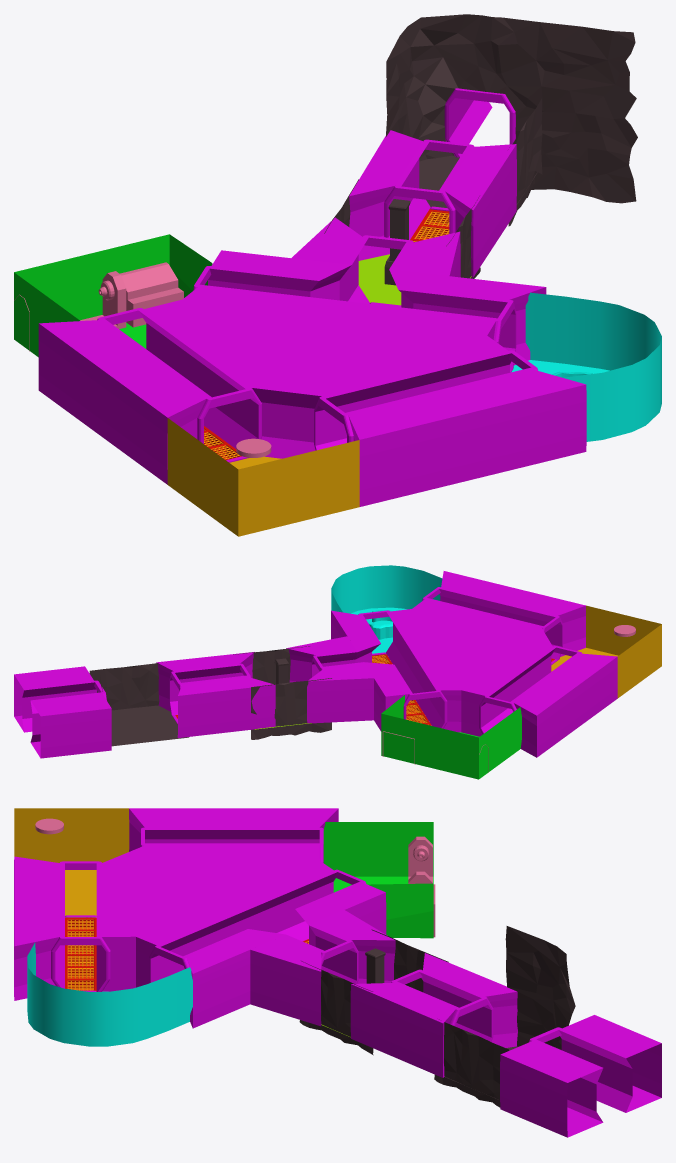
File: Map_Whole_2.fbx
The picture shows the model from 3 angles, top to bottom: view 1: azimuth 30°, elevation 25°; view 2: azimuth 150°, elevation 25°; view 3: azimuth 270°, elevation 25°; orthographic projection. The views are drawn at different scales.
Visible parts, largest first — view 1: Cylinder; view 2: Cylinder; view 3: Cylinder.
Part boxes in pixels (x1,y1,x2,y2): Cylinder: (14, 14, 661, 536); Cylinder: (14, 565, 661, 779); Cylinder: (14, 808, 661, 1137).
Size of the model in its own units: 4097 by 977 by 4083.
